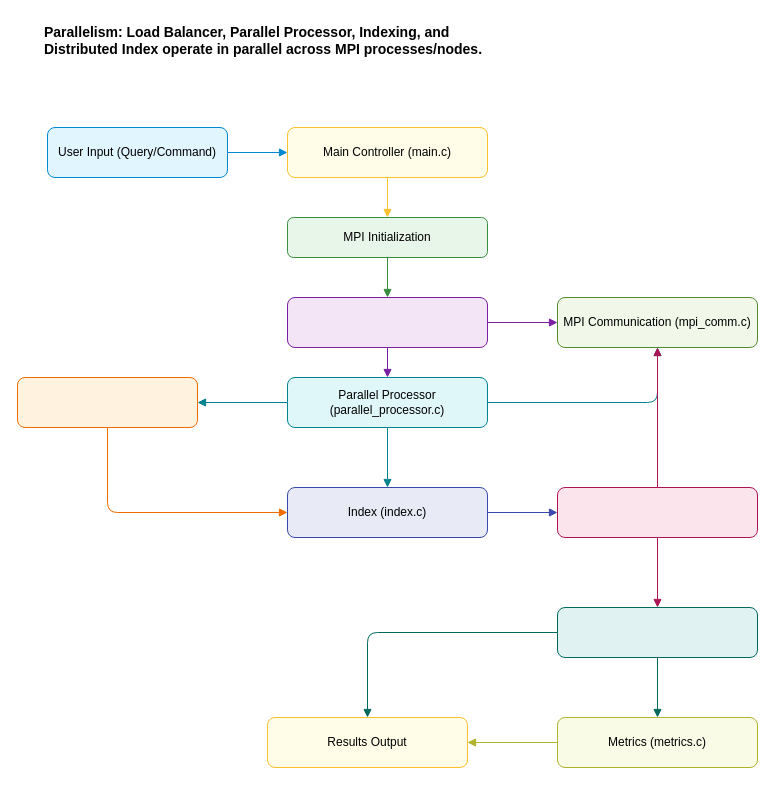
This 775x785 diagram has some shape labels left out. Each missing label, with the centre of its shape:
"Distributed Index (dist_index.c)" belongs at point (657, 512).
"Load Balancer (load_balancer.c)" belongs at point (387, 322).
"Parser (parser.c)" belongs at point (107, 402).
"Ranking (ranking.c)" belongs at point (657, 632).
